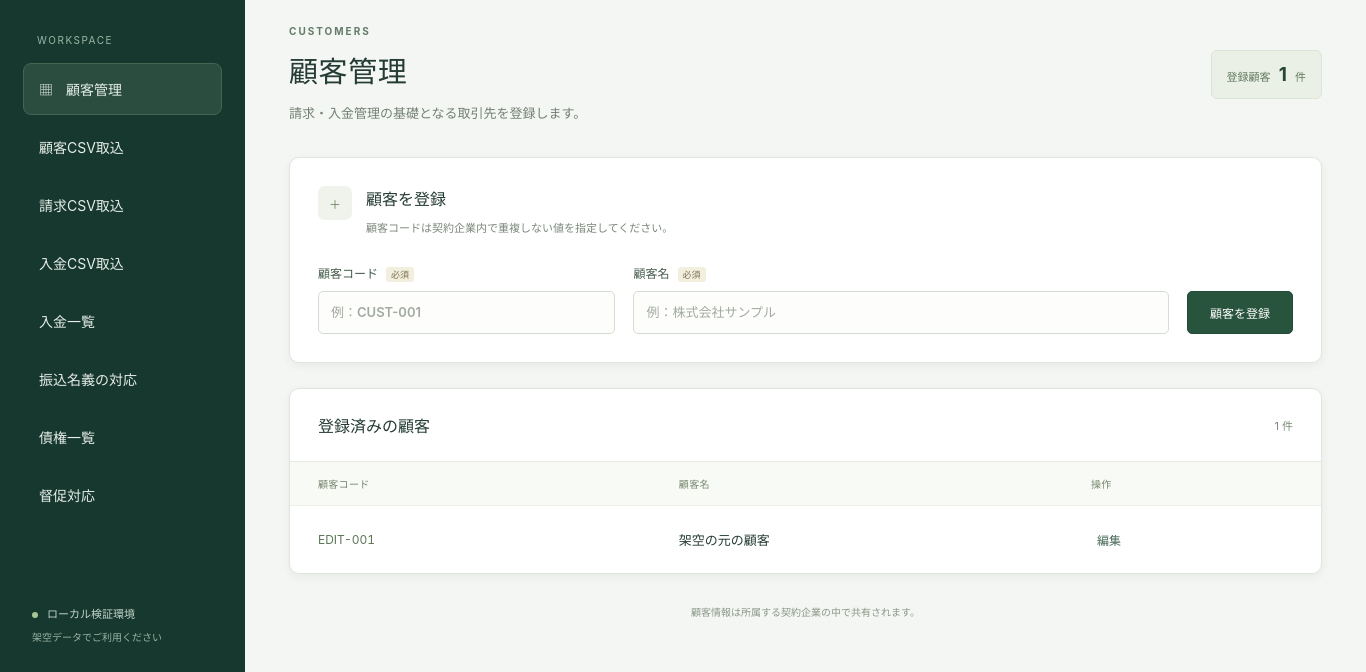
Test: Versioned customer editing › requires a read after a lost response without automatically resending the update
Click the button with aria-label "顧客 EDIT-001 を編集". click: (1109, 539)
box: [1091, 525, 1127, 554]
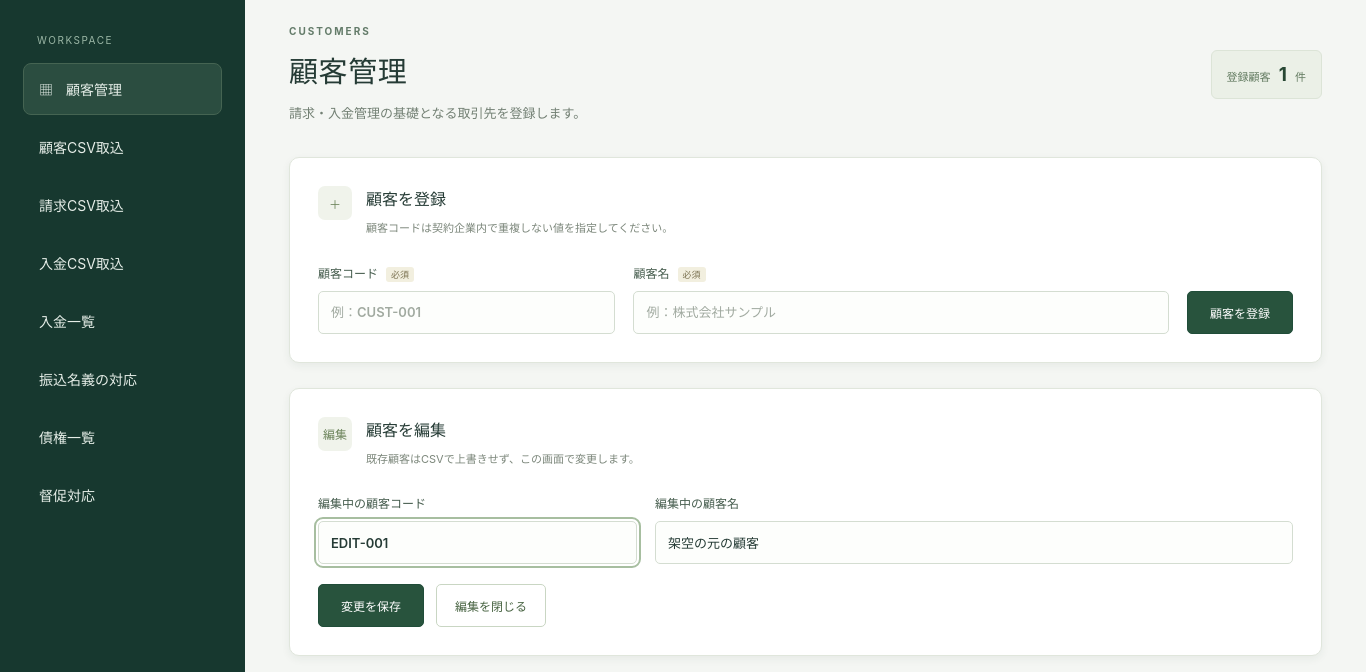
Replace the text in the field labelled "編集中の顧客名" with "自分が入力した名称". click: (974, 543)
box: [655, 522, 1293, 564]
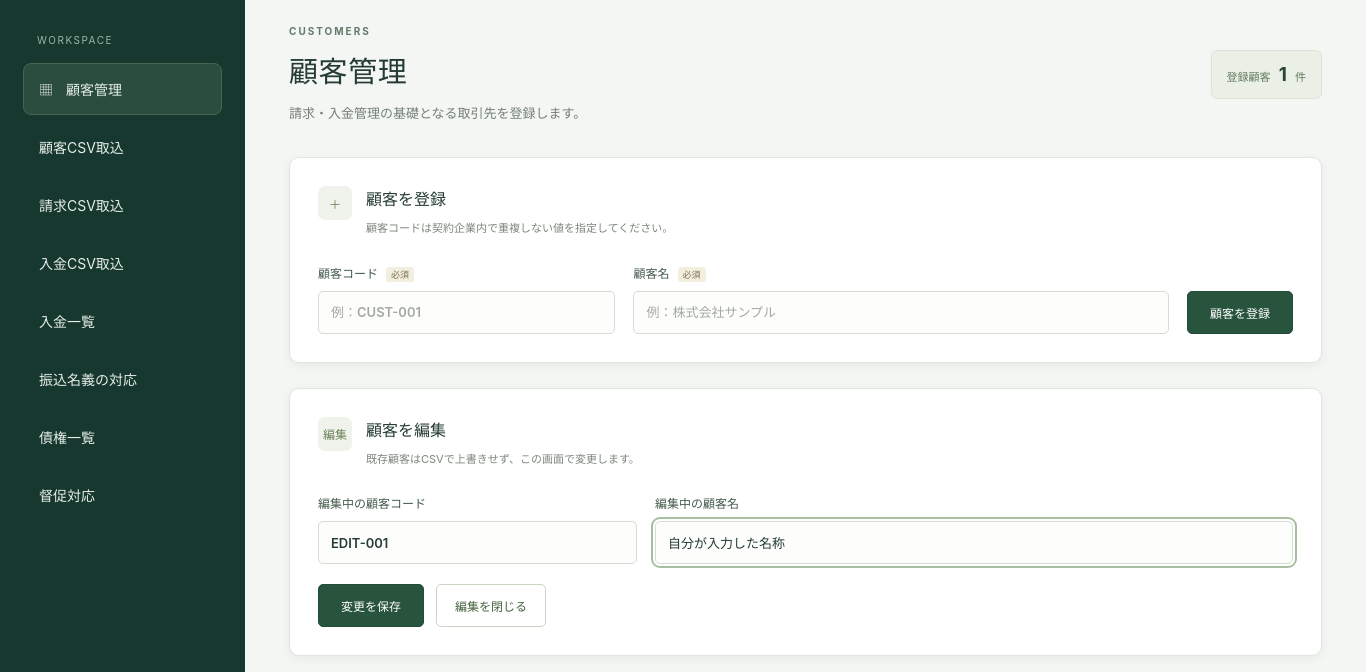
Click the button "変更を保存". click: (371, 606)
box: [318, 584, 424, 628]
(page scrolled)
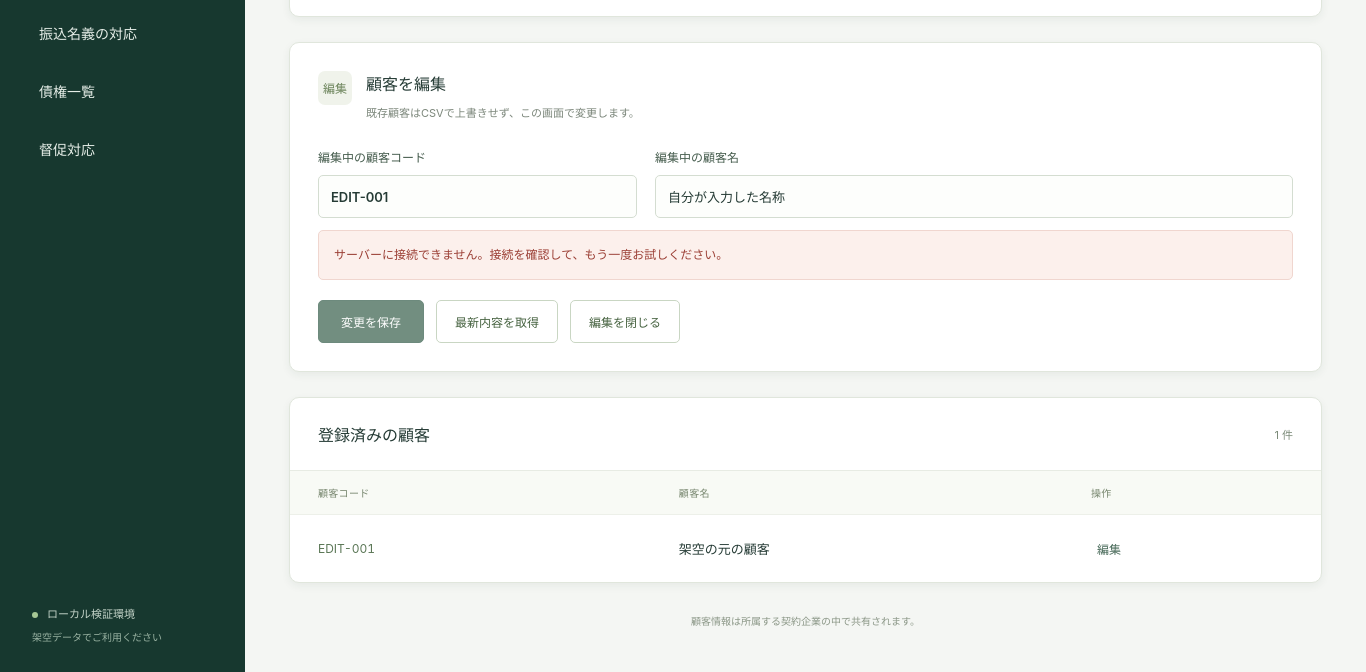
Expected: the message shows "サーバーに接続できません", [334, 248, 728, 262]
Expected: the button "変更を保存" is disabled, [318, 300, 424, 343]
Click the button "最新内容を取得". click: (497, 322)
box: [436, 300, 558, 343]
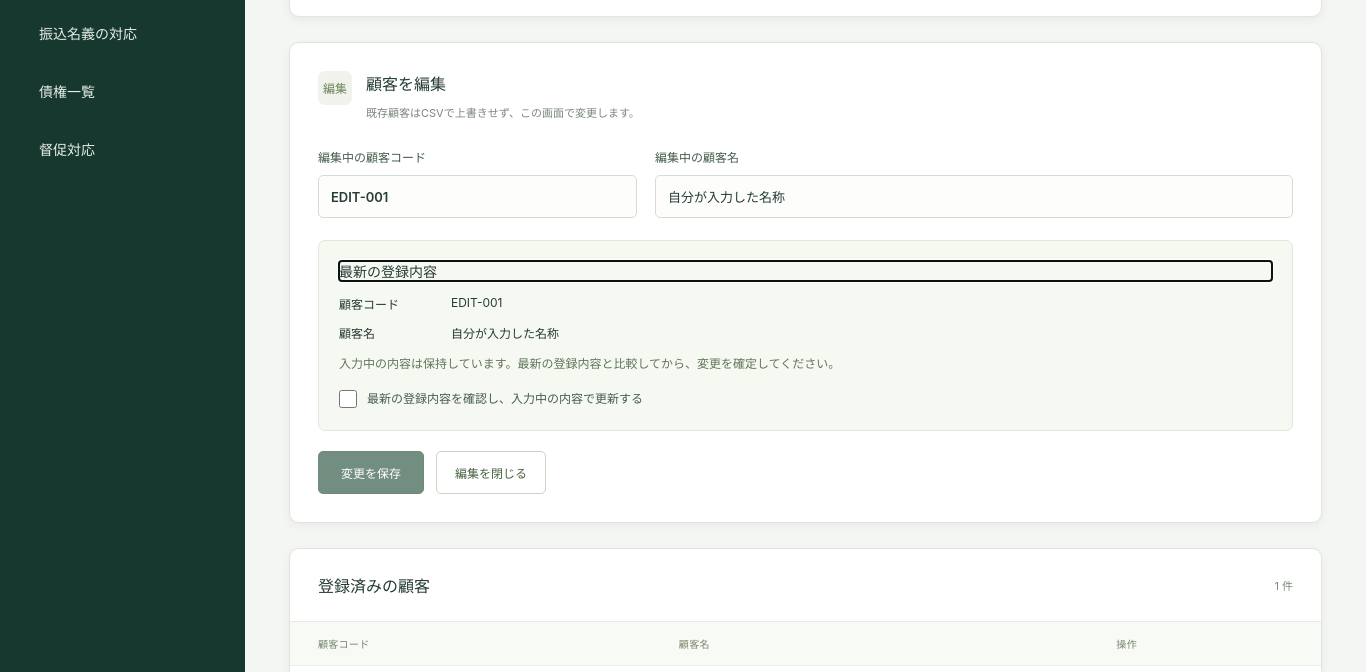
Expected: the heading "最新の登録内容" is shown, [339, 264, 437, 280]
